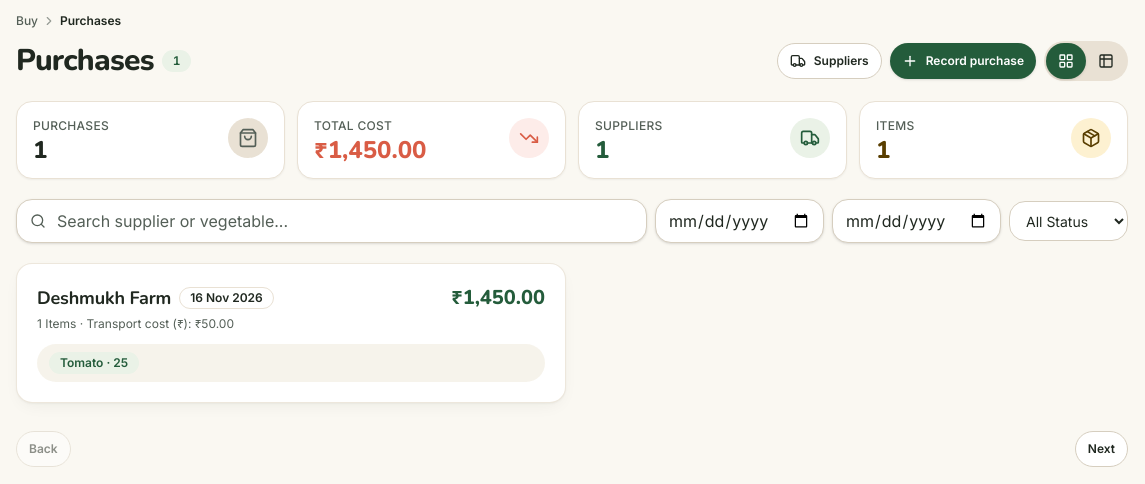
Test: Final UI/UX Redesign — Collapsible Sidebar & Operational Views › renders PurchasesPage summary metrics and table view toggle
Expected: the heading "Deshmukh Farm" is shown, 37,284 -> 171,312
Click the button named "Table view".
click(1106, 61)  # box 1086,43 -> 1126,79
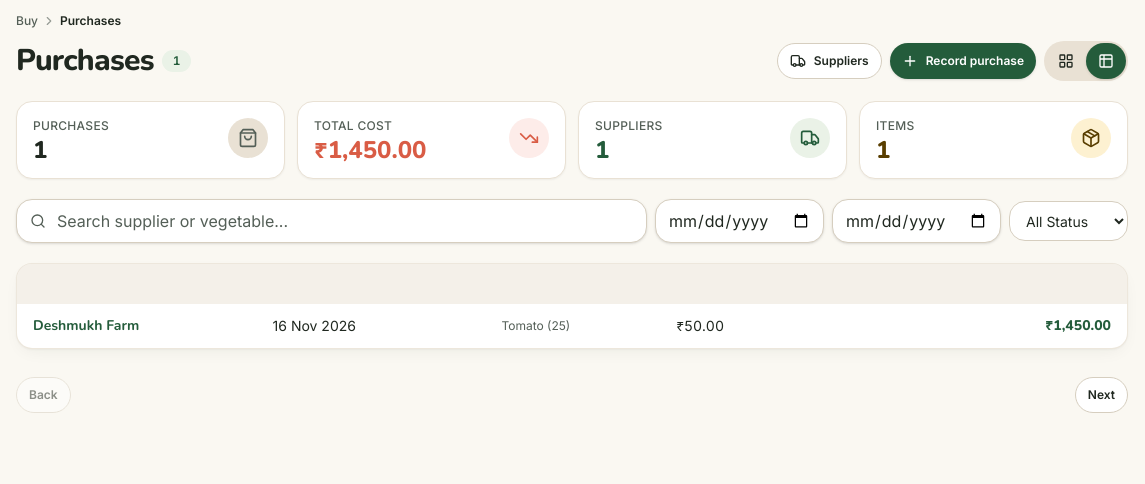
Expected: the table named "Purchases" is shown, 17,264 -> 1127,348
